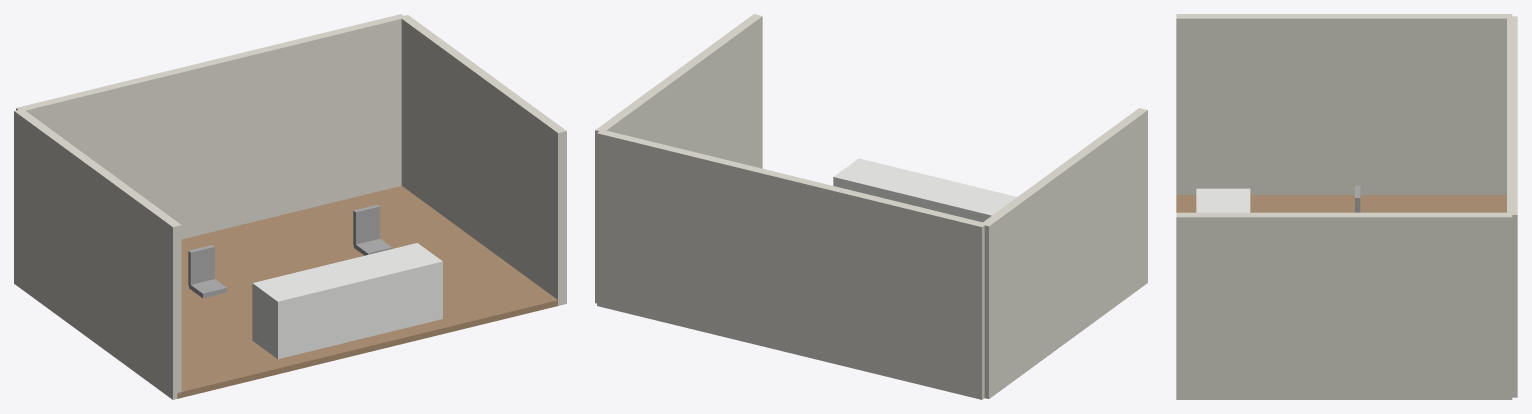
Rendered from medical_reception.glb.
The picture shows the model from 3 angles, left to right: view 1: azimuth 30°, elevation 25°; view 2: azimuth 150°, elevation 25°; view 3: azimuth 270°, elevation 25°; orthographic projection. The views are drawn at different scales.
Parts seen in each view (by area): view 1: back, floor, left, right, desk, back.002, back.001, seat; view 2: back, left, right, desk; view 3: right, left, floor, back, desk.
Boxes of the visible parts, x1,y1,x2,y2 form: back: [16, 14, 405, 239]; floor: [177, 186, 557, 398]; left: [14, 109, 181, 399]; right: [400, 15, 566, 305]; desk: [252, 243, 442, 358]; back.002: [353, 204, 379, 245]; back.001: [188, 245, 214, 285]; seat: [189, 279, 226, 298]; back: [597, 129, 986, 399]; left: [983, 108, 1147, 398]; right: [595, 14, 762, 303]; desk: [833, 158, 1016, 222]; right: [1176, 212, 1512, 399]; left: [1176, 14, 1512, 194]; floor: [1176, 195, 1506, 212]; back: [1507, 16, 1517, 397]; desk: [1196, 188, 1250, 212].
Size of the model in its own units: 7.16 by 3 by 5.08.
